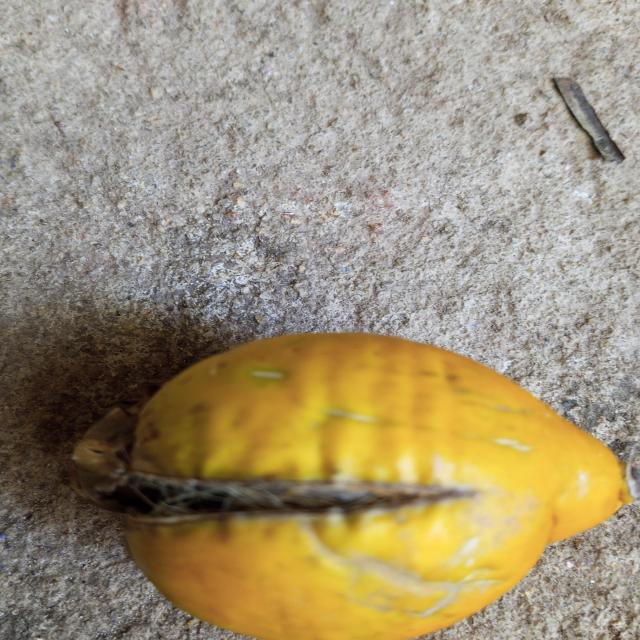damaged: (70, 333, 634, 640)
